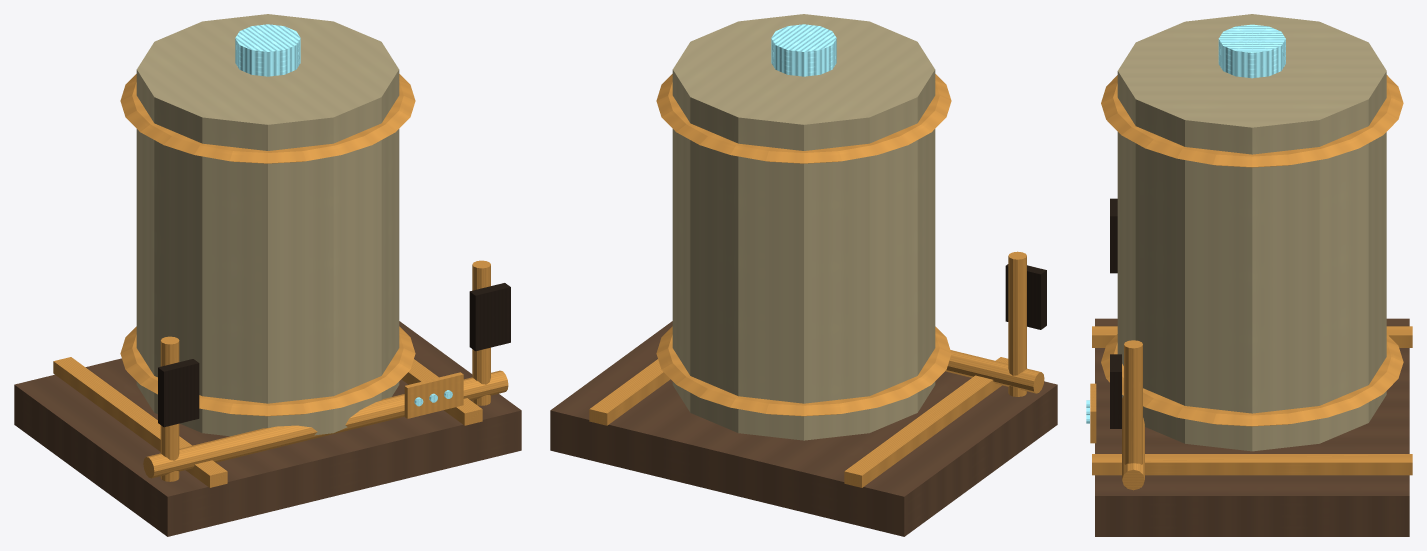
Rendered from atlas100-s012-a04.glb.
3 views of the same model, side by side, from view 1: azimuth 30°, elevation 25°; view 2: azimuth 150°, elevation 25°; view 3: azimuth 270°, elevation 25° (orthographic). The views are drawn at different scales.
Parts seen in each view (by area): view 1: atlas100-s012-a04:part-003, atlas100-s012-a04:part-000, atlas100-s012-a04:part-011, atlas100-s012-a04:part-005, atlas100-s012-a04:part-004, atlas100-s012-a04:part-001, atlas100-s012-a04:part-006, atlas100-s012-a04:part-010, atlas100-s012-a04:part-008, atlas100-s012-a04:part-012, atlas100-s012-a04:part-007, atlas100-s012-a04:part-009 (+1 smaller); view 2: atlas100-s012-a04:part-003, atlas100-s012-a04:part-000, atlas100-s012-a04:part-005, atlas100-s012-a04:part-004, atlas100-s012-a04:part-001, atlas100-s012-a04:part-006, atlas100-s012-a04:part-007, atlas100-s012-a04:part-002, atlas100-s012-a04:part-011, atlas100-s012-a04:part-008; view 3: atlas100-s012-a04:part-003, atlas100-s012-a04:part-000, atlas100-s012-a04:part-002, atlas100-s012-a04:part-005, atlas100-s012-a04:part-004, atlas100-s012-a04:part-006, atlas100-s012-a04:part-009, atlas100-s012-a04:part-001, atlas100-s012-a04:part-010, atlas100-s012-a04:part-011, atlas100-s012-a04:part-008, atlas100-s012-a04:part-012.
Boxes of the visible parts, x1,y1,x2,y2 form: atlas100-s012-a04:part-003: [136, 14, 399, 436]; atlas100-s012-a04:part-000: [14, 321, 521, 536]; atlas100-s012-a04:part-011: [143, 370, 508, 478]; atlas100-s012-a04:part-005: [120, 74, 415, 163]; atlas100-s012-a04:part-004: [120, 326, 415, 416]; atlas100-s012-a04:part-001: [53, 357, 227, 487]; atlas100-s012-a04:part-006: [235, 24, 300, 76]; atlas100-s012-a04:part-010: [469, 283, 510, 351]; atlas100-s012-a04:part-008: [158, 359, 199, 427]; atlas100-s012-a04:part-012: [404, 372, 463, 418]; atlas100-s012-a04:part-007: [160, 336, 179, 481]; atlas100-s012-a04:part-009: [472, 260, 490, 405]; atlas100-s012-a04:part-003: [672, 14, 935, 440]; atlas100-s012-a04:part-000: [550, 321, 1057, 536]; atlas100-s012-a04:part-005: [656, 74, 951, 163]; atlas100-s012-a04:part-004: [656, 326, 951, 416]; atlas100-s012-a04:part-001: [844, 357, 1008, 487]; atlas100-s012-a04:part-006: [771, 24, 836, 76]; atlas100-s012-a04:part-007: [1008, 251, 1026, 396]; atlas100-s012-a04:part-002: [589, 359, 670, 425]; atlas100-s012-a04:part-011: [945, 350, 1044, 393]; atlas100-s012-a04:part-008: [1005, 264, 1046, 329]; atlas100-s012-a04:part-003: [1117, 14, 1386, 451]; atlas100-s012-a04:part-000: [1095, 318, 1409, 536]; atlas100-s012-a04:part-002: [1092, 454, 1412, 475]; atlas100-s012-a04:part-005: [1101, 75, 1403, 167]; atlas100-s012-a04:part-004: [1101, 334, 1403, 426]; atlas100-s012-a04:part-006: [1218, 24, 1285, 78]; atlas100-s012-a04:part-009: [1124, 340, 1142, 487]; atlas100-s012-a04:part-001: [1092, 326, 1412, 347]; atlas100-s012-a04:part-010: [1110, 354, 1121, 428]; atlas100-s012-a04:part-011: [1122, 396, 1144, 490]; atlas100-s012-a04:part-008: [1110, 198, 1117, 273]; atlas100-s012-a04:part-012: [1090, 383, 1096, 443].
Size of the model in its own units: 2.4 by 2.59 by 1.87.
Materials: 5 (5 with a texture image).
